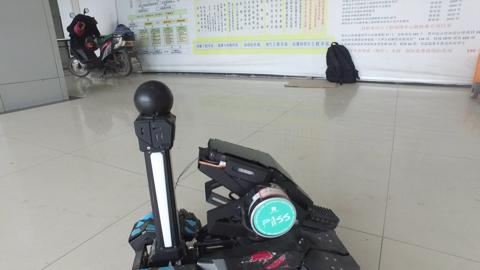bag: (319, 46, 363, 89)
chariot: (111, 79, 354, 270)
